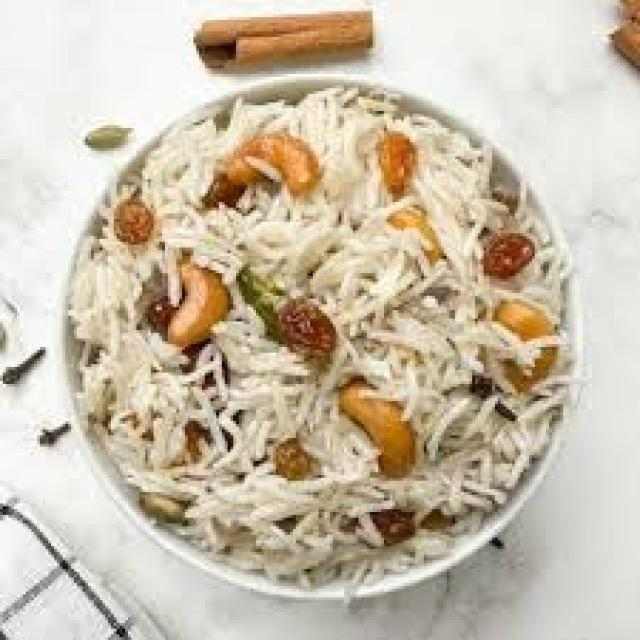nei satham: (59, 73, 575, 602)
